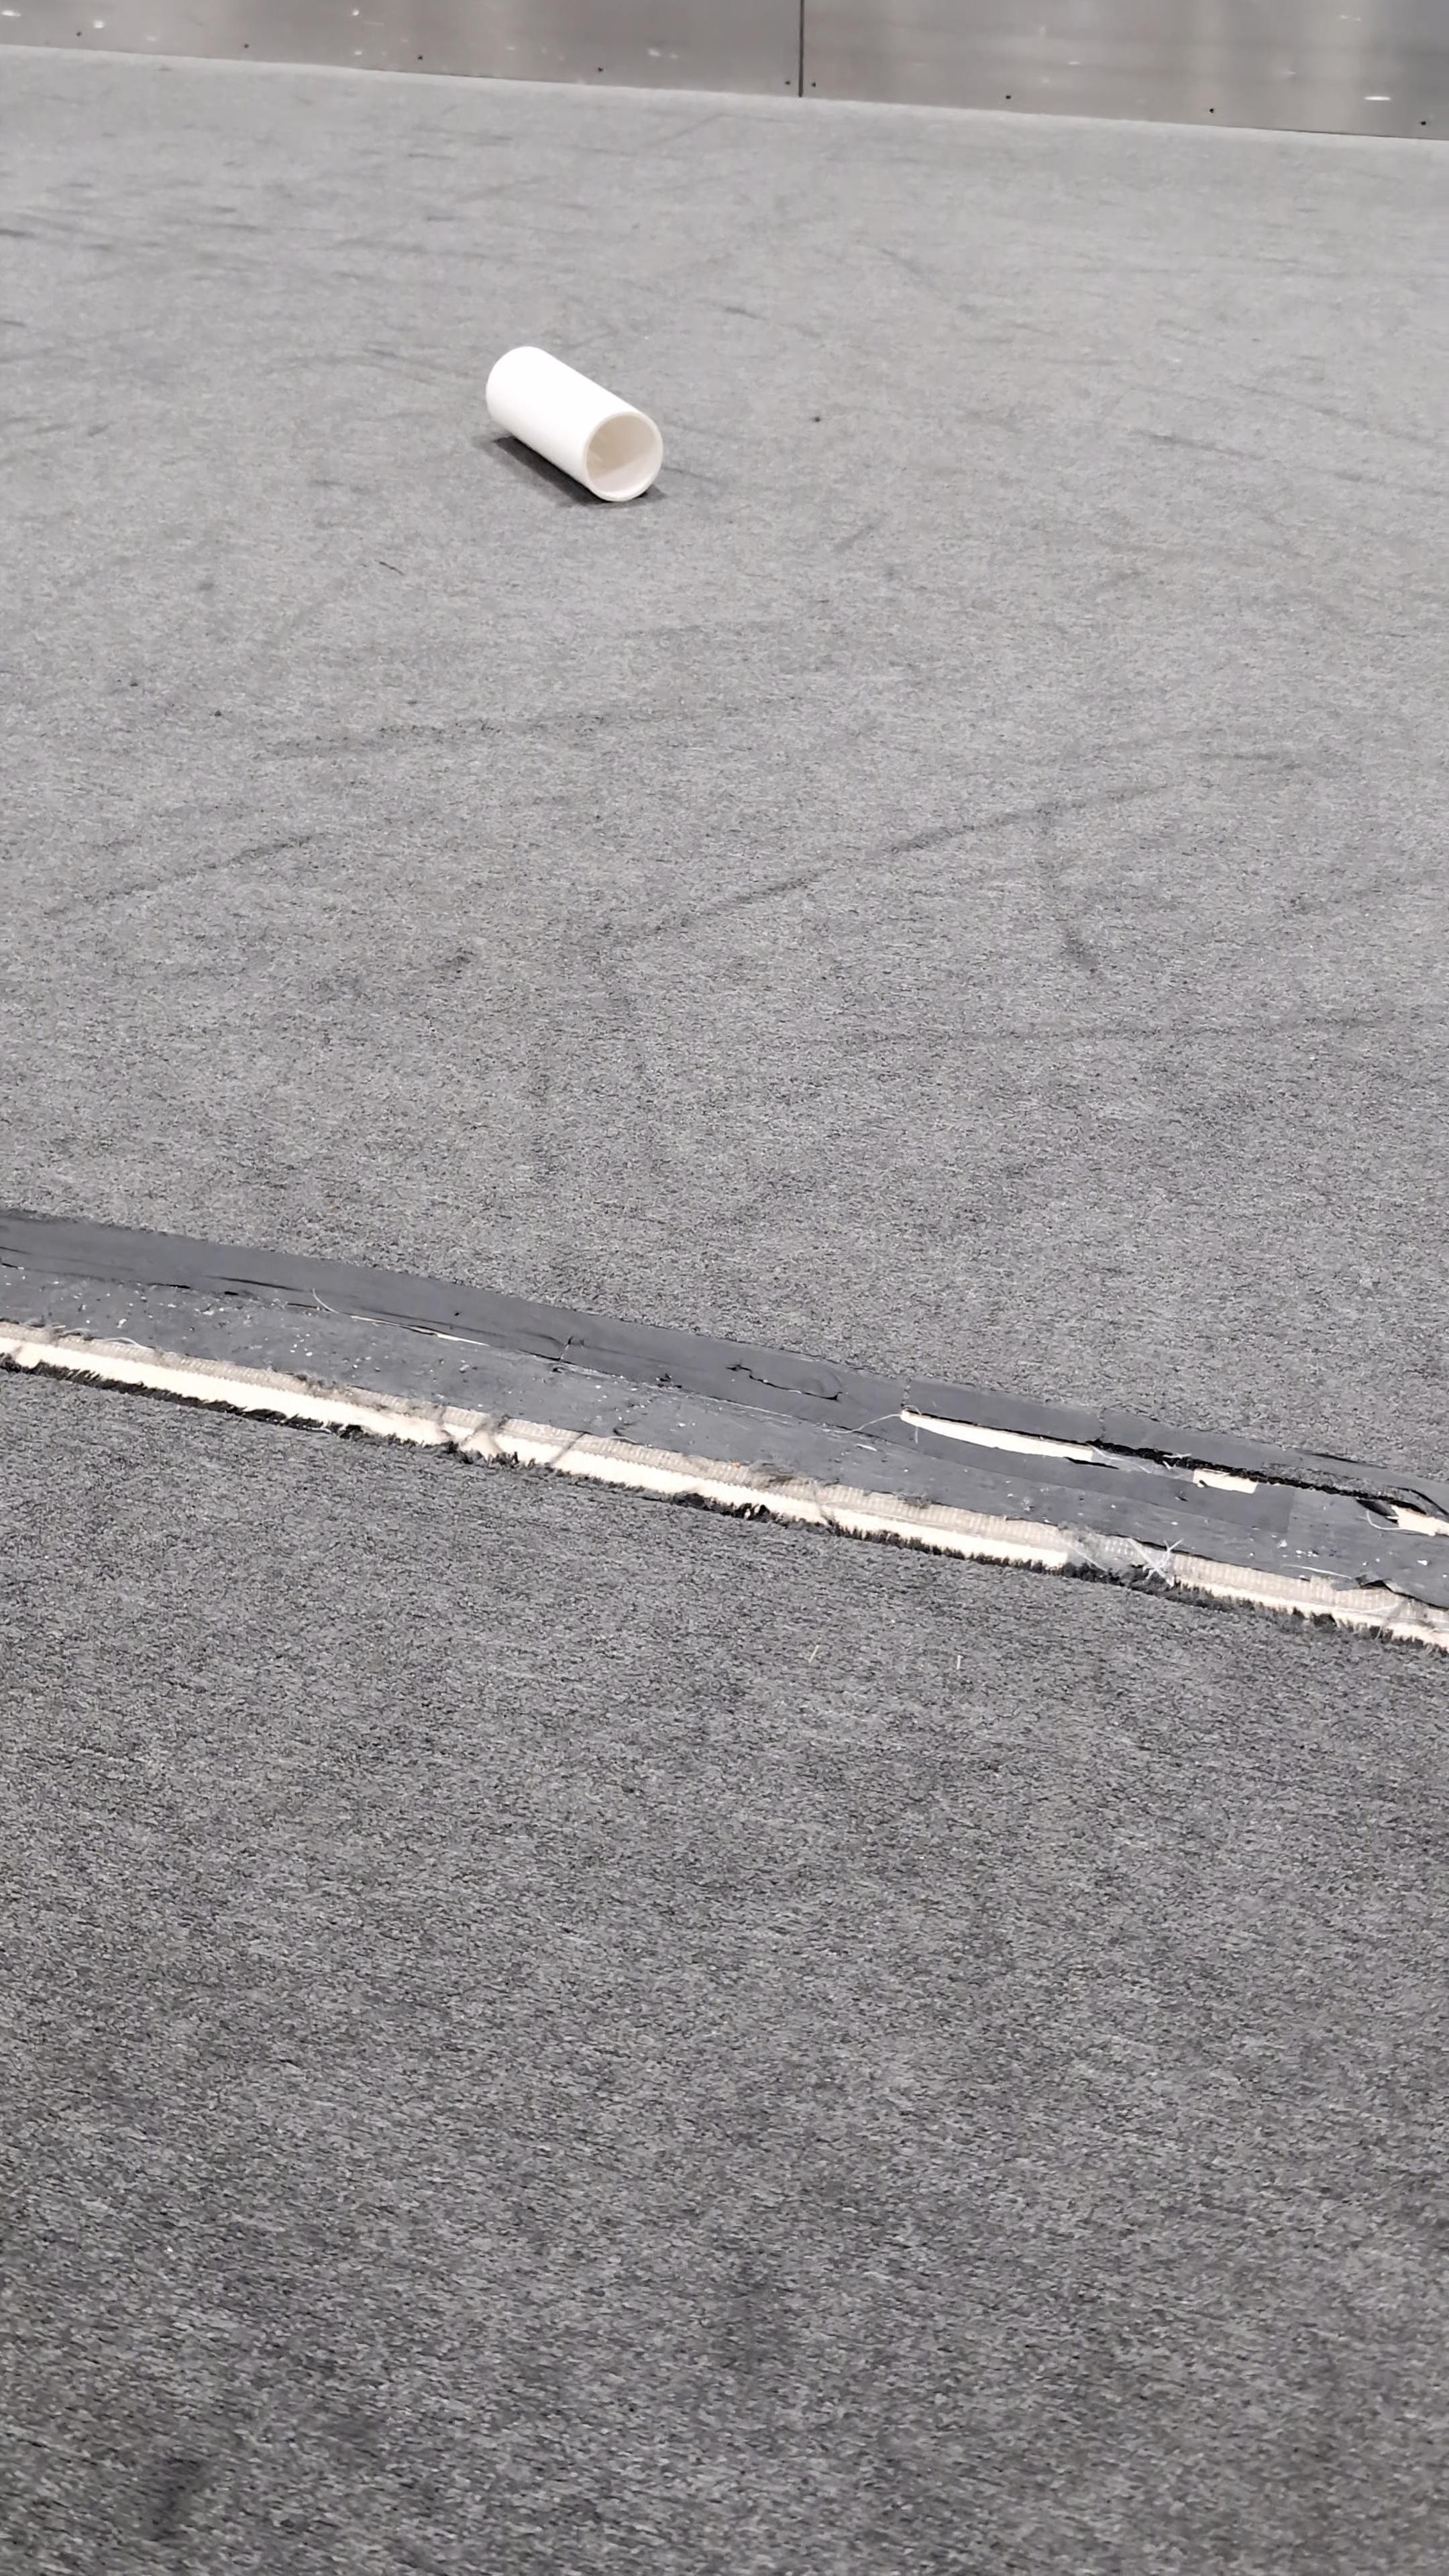coral: (483, 340, 667, 501)
